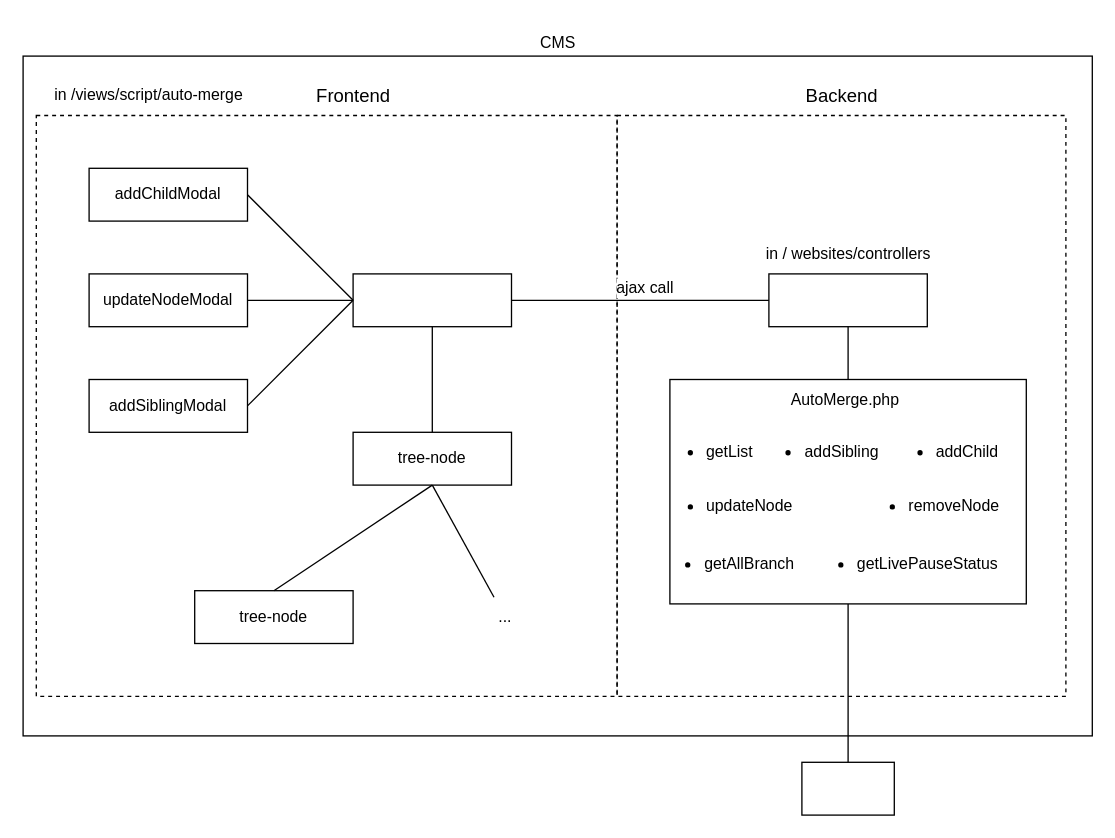
This 1115x838 diagram has some shape labels left out. Here are the shapes that lost their labels. From the top down, the centre of each, then its label:
At (x=432, y=300): "main (default.phtml)".
At (x=847, y=300): "ApiController.php".
At (x=847, y=788): "Jenkins".
